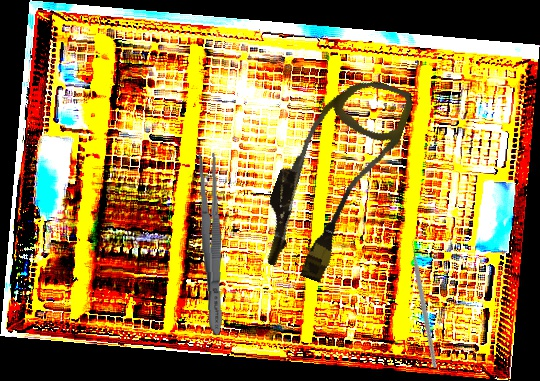Cannula: (248, 60, 417, 292)
Chopper: (360, 232, 494, 369)
Dressing Forceps: (195, 150, 228, 337)
